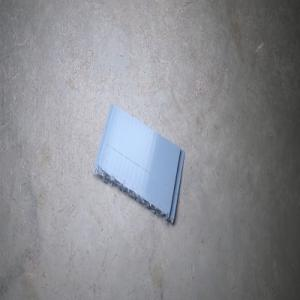PlasticPart: (91, 103, 184, 224)
